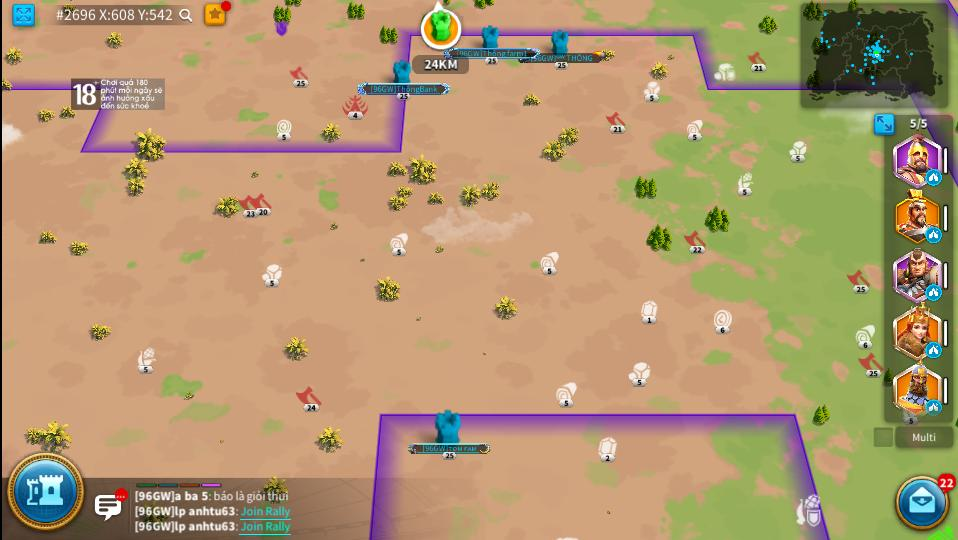gem-z-out: (597, 436, 617, 465), (641, 301, 658, 323)
march_idle: (925, 228, 942, 242), (926, 170, 940, 185), (927, 400, 941, 415), (926, 285, 940, 299), (928, 343, 940, 357)
